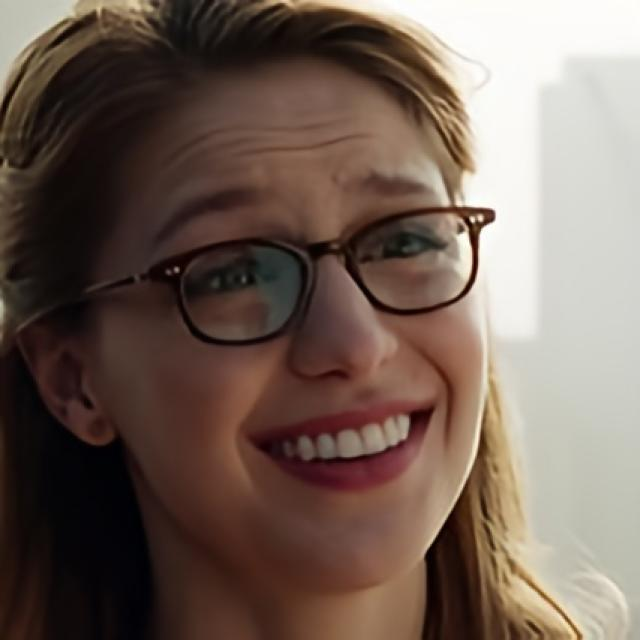happy: (110, 52, 487, 589)
